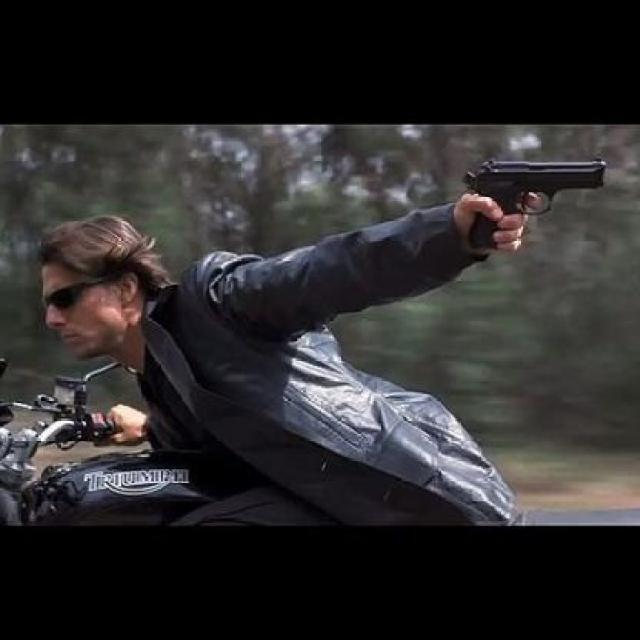Pistol: (457, 156, 605, 254)
